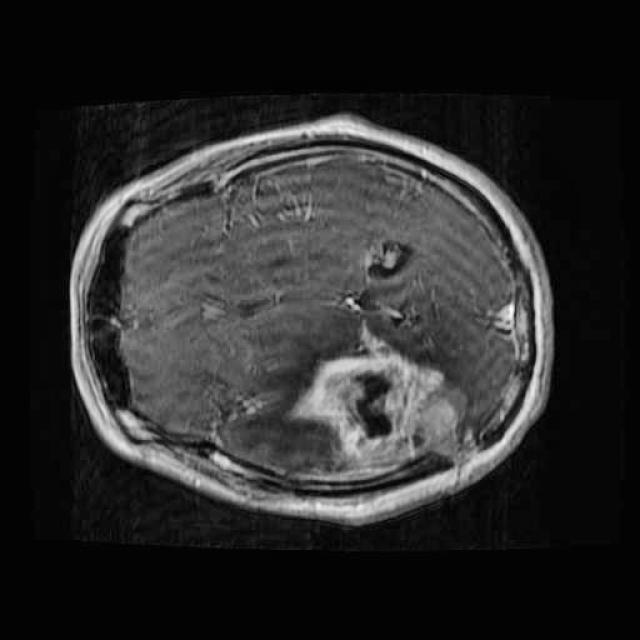Tumor: (280, 314, 492, 484)
